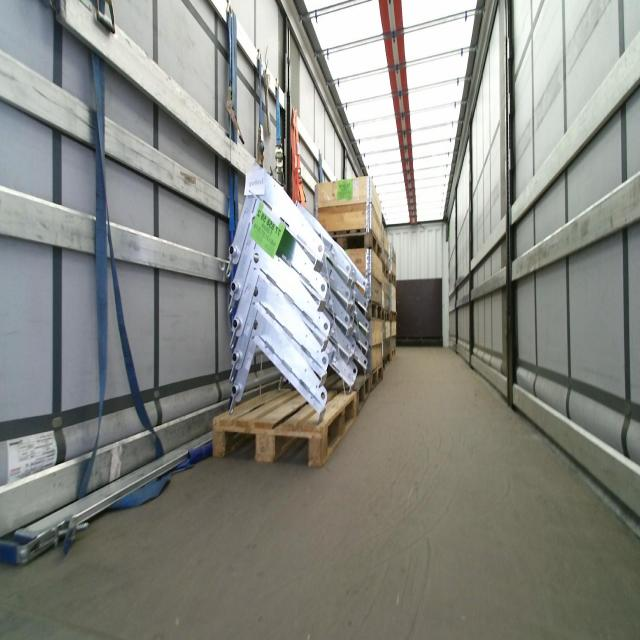pallet: (210, 380, 358, 469), (311, 372, 371, 417), (320, 224, 385, 262), (362, 298, 382, 325), (377, 257, 390, 285), (371, 361, 384, 389), (380, 308, 391, 326), (385, 348, 392, 372), (390, 269, 398, 289), (389, 311, 400, 324), (392, 345, 398, 360)
